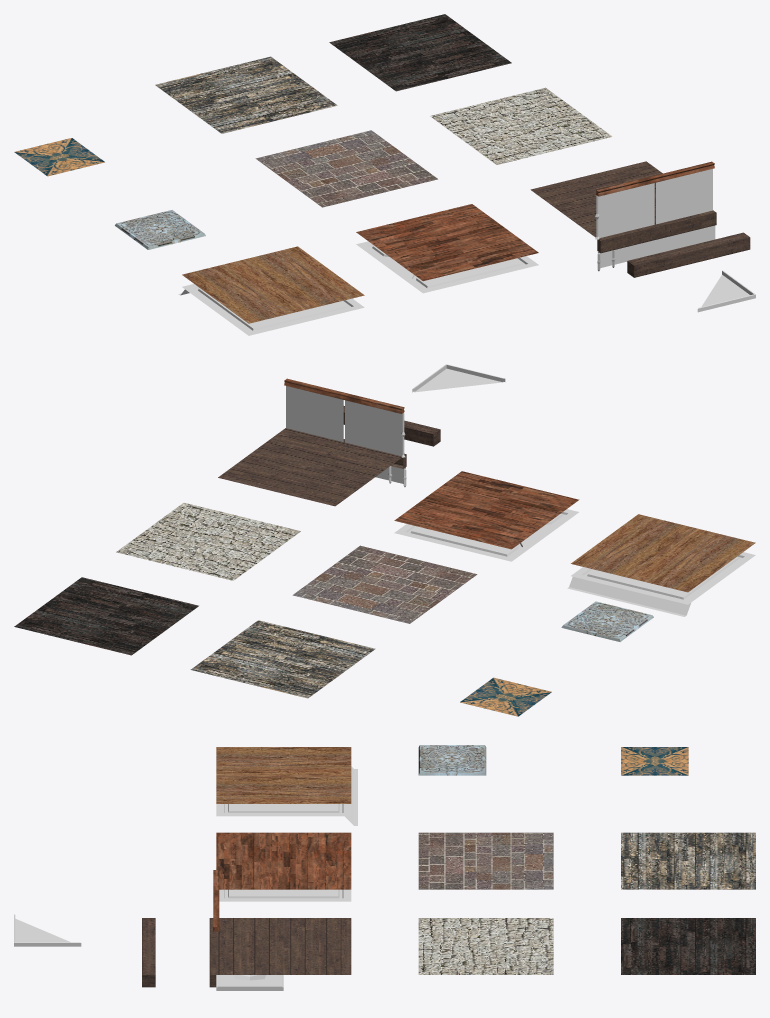
Rendered from AssetsHall.fbx.
3 renders of one model, top to bottom at view 1: azimuth 30°, elevation 25°; view 2: azimuth 150°, elevation 25°; view 3: azimuth 270°, elevation 25°, orthographic.
Parts seen in each view (by area): view 1: ChaoMadeira, ChaoMadeiraAntiga, ChaoMadeiraAntigaEscura, ChaoMadeiraTabuas, ChaoTijolos, ParedePedra, Parapeito, ChaoMadeiraEscura, VigaMadeiraEscura, Teto1, Teto2, ChapDecorado1 (+4 smaller); view 2: ChaoMadeira, ChaoMadeiraAntiga, ChaoMadeiraTabuas, ChaoMadeiraAntigaEscura, ChaoTijolos, ParedePedra, ChaoMadeiraEscura, Parapeito, Teto1, Teto2, ChapDecorado1, ChaoDecorado2 (+3 smaller); view 3: ChaoTijolos, ChaoMadeiraAntiga, ChaoMadeiraTabuas, ChaoMadeira, ParedePedra, ChaoMadeiraEscura, ChaoMadeiraAntigaEscura, ChapDecorado1, ChaoDecorado2, Teto1, Teto2, Teto3 (+3 smaller).
Part boxes in pixels (x1=…): ChaoMadeira: x1=182, y1=246, x2=364, y2=323; ChaoMadeiraAntiga: x1=155, y1=56, x2=337, y2=133; ChaoMadeiraAntigaEscura: x1=329, y1=14, x2=511, y2=91; ChaoMadeiraTabuas: x1=356, y1=204, x2=538, y2=281; ChaoTijolos: x1=255, y1=130, x2=437, y2=207; ParedePedra: x1=430, y1=87, x2=612, y2=164; Parapeito: x1=596, y1=161, x2=714, y2=237; ChaoMadeiraEscura: x1=530, y1=161, x2=662, y2=237; VigaMadeiraEscura: x1=627, y1=232, x2=750, y2=277; Teto1: x1=182, y1=284, x2=364, y2=335; Teto2: x1=356, y1=241, x2=538, y2=293; ChapDecorado1: x1=115, y1=210, x2=205, y2=249; ChaoMadeira: x1=571, y1=514, x2=755, y2=592; ChaoMadeiraAntiga: x1=190, y1=620, x2=375, y2=698; ChaoMadeiraTabuas: x1=394, y1=471, x2=579, y2=549; ChaoMadeiraAntigaEscura: x1=14, y1=577, x2=198, y2=655; ChaoTijolos: x1=292, y1=545, x2=477, y2=623; ParedePedra: x1=116, y1=502, x2=300, y2=580; ChaoMadeiraEscura: x1=218, y1=428, x2=401, y2=506; Parapeito: x1=284, y1=378, x2=404, y2=455; Teto1: x1=571, y1=552, x2=755, y2=604; Teto2: x1=394, y1=509, x2=578, y2=561; ChapDecorado1: x1=561, y1=601, x2=653, y2=641; ChaoDecorado2: x1=460, y1=677, x2=551, y2=716; ChaoTijolos: x1=418, y1=832, x2=553, y2=889; ChaoMadeiraAntiga: x1=621, y1=832, x2=755, y2=889; ChaoMadeiraTabuas: x1=216, y1=832, x2=351, y2=889; ChaoMadeira: x1=216, y1=747, x2=351, y2=803; ParedePedra: x1=418, y1=918, x2=553, y2=974; ChaoMadeiraEscura: x1=216, y1=918, x2=351, y2=974; ChaoMadeiraAntigaEscura: x1=621, y1=918, x2=755, y2=974; ChapDecorado1: x1=418, y1=745, x2=486, y2=775; ChaoDecorado2: x1=621, y1=747, x2=688, y2=775; Teto1: x1=216, y1=804, x2=351, y2=816; Teto2: x1=219, y1=889, x2=351, y2=901; Teto3: x1=216, y1=975, x2=283, y2=990.
Size of the model in its own units: 8 by 1.3 by 11.
